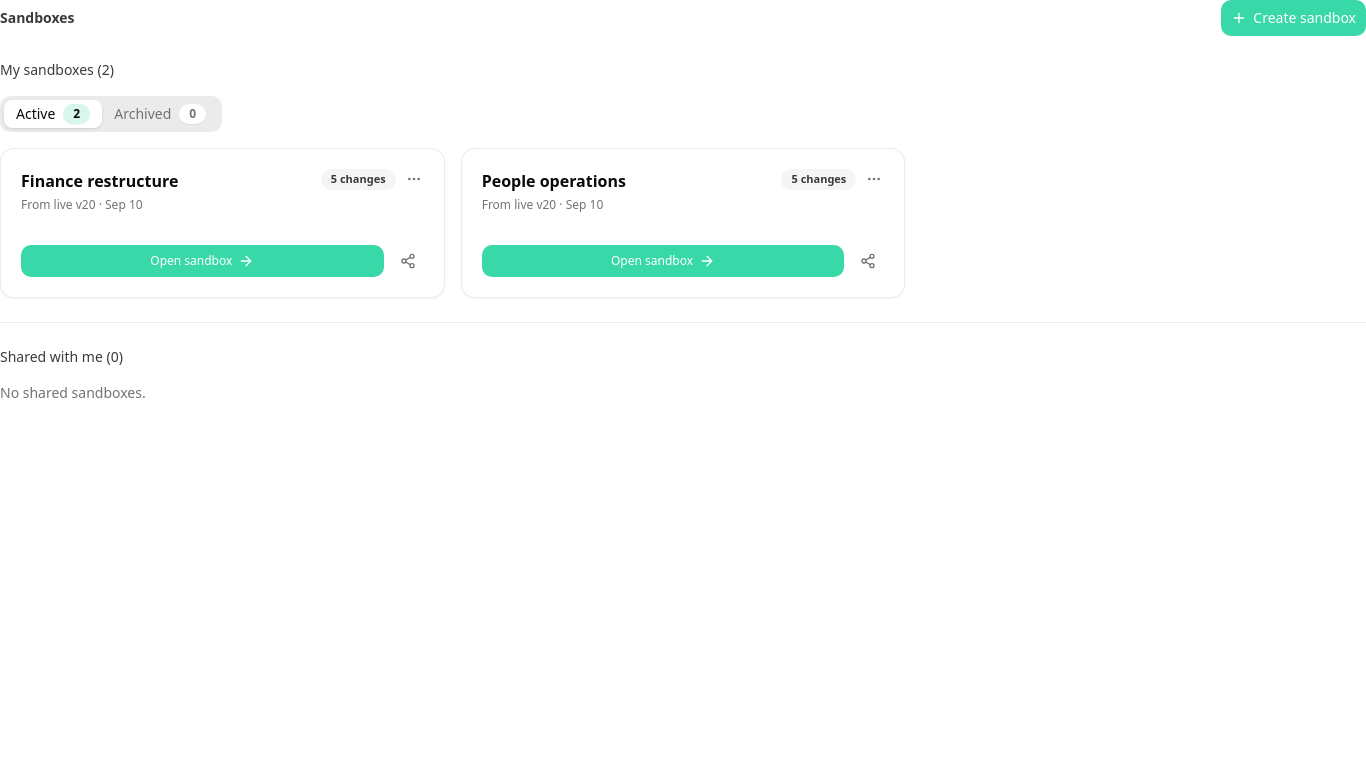
Test case: sandbox sharing › does not keep a new sandbox composer locked by an older invitation
Click the button named "Share Finance restructure" at (408, 261), box [392,245,424,277]
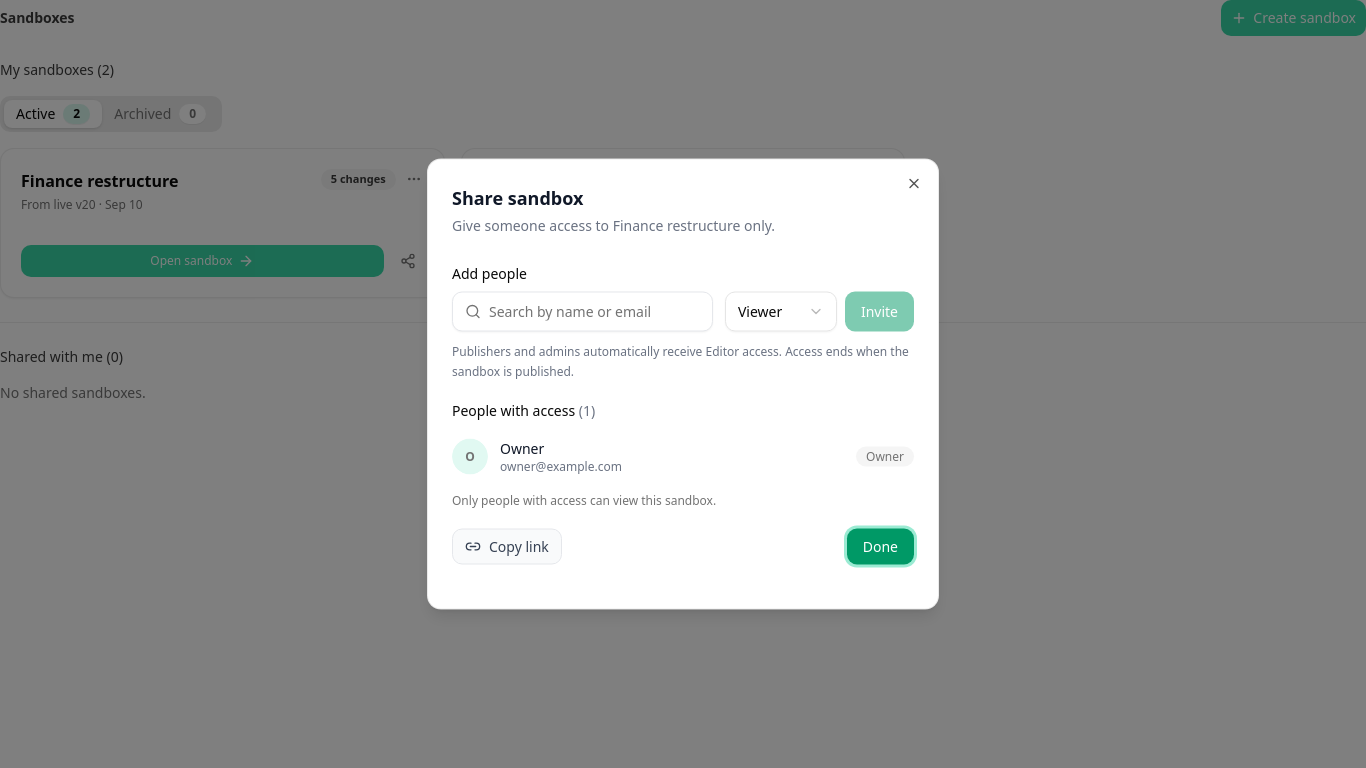
Type "morgan" into the dropdown labelled "Add people" at (592, 312), box [481,302,704,322]
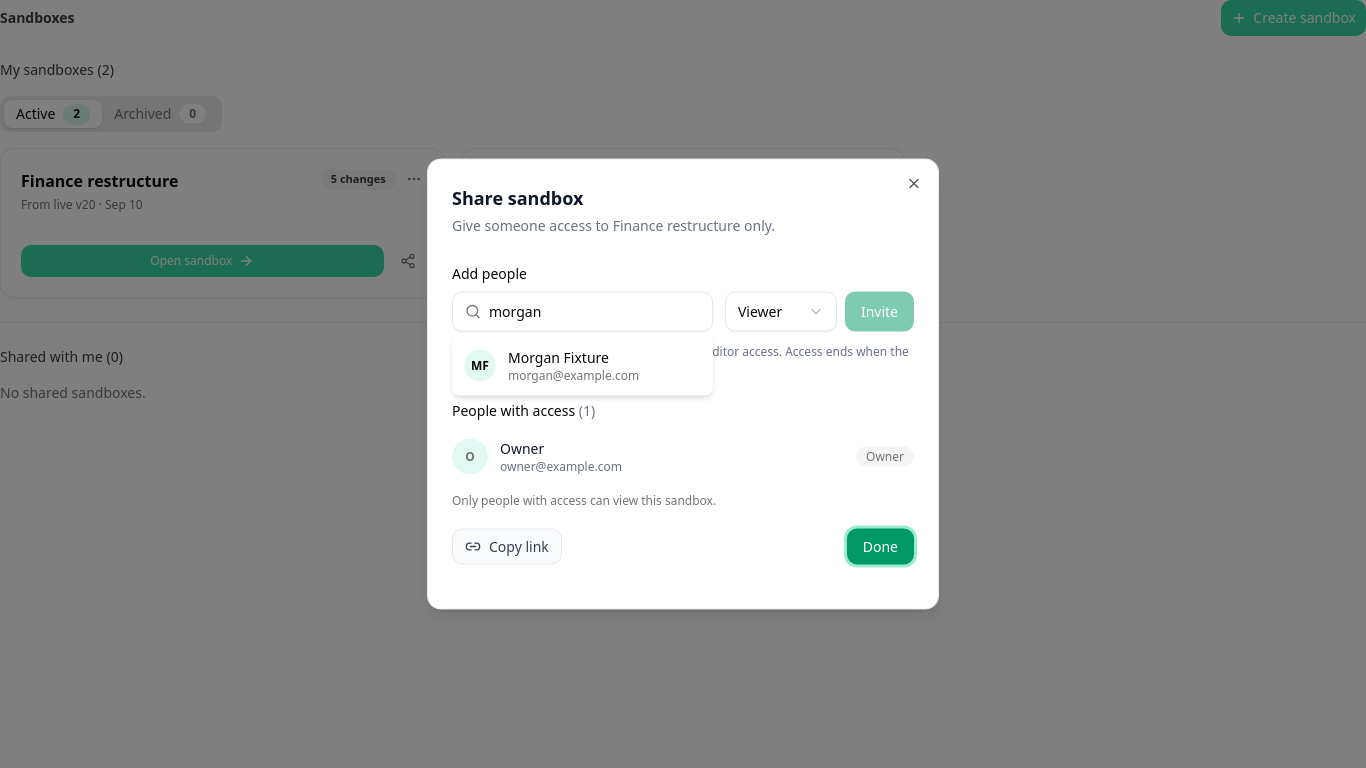
Click the button "Morgan Fixture" at (582, 366), box [456,340,709,392]
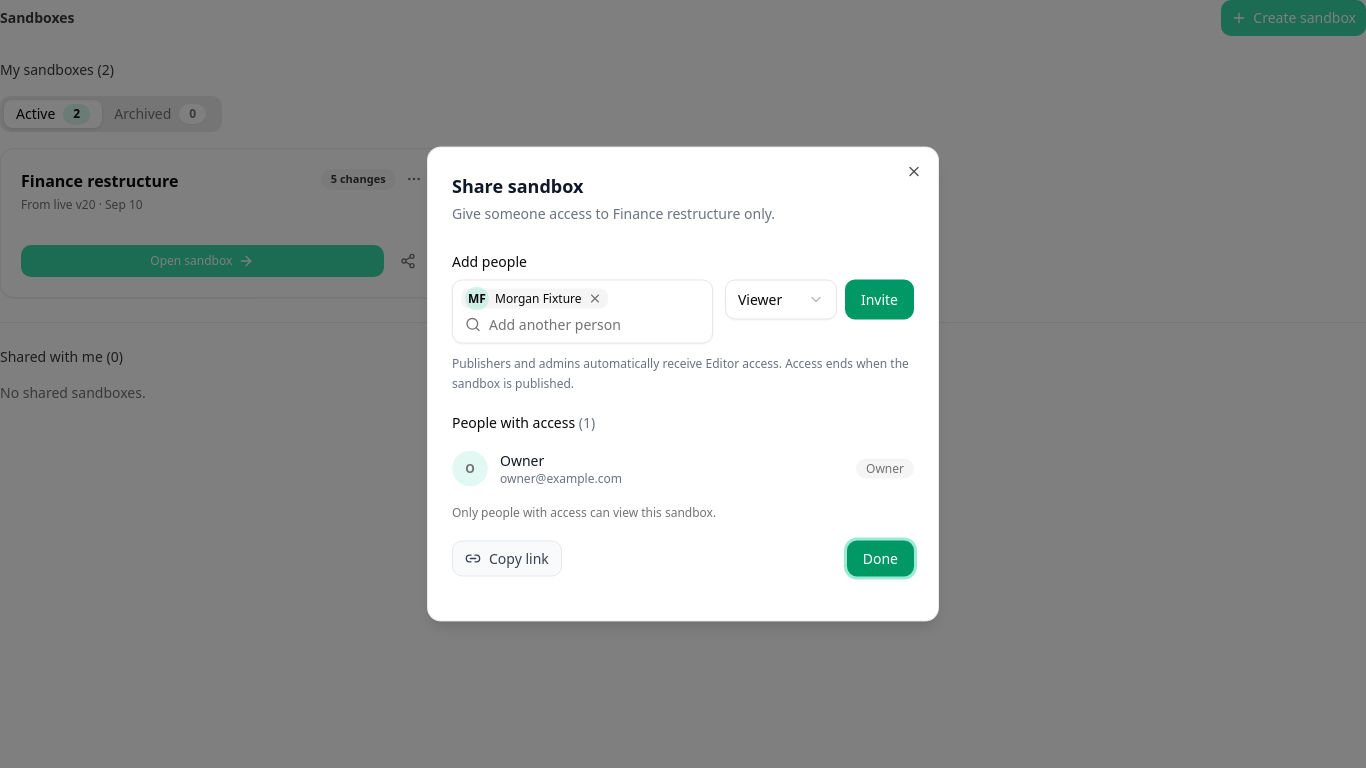
Click the button "Invite" at (879, 300), box [845,280,914,320]
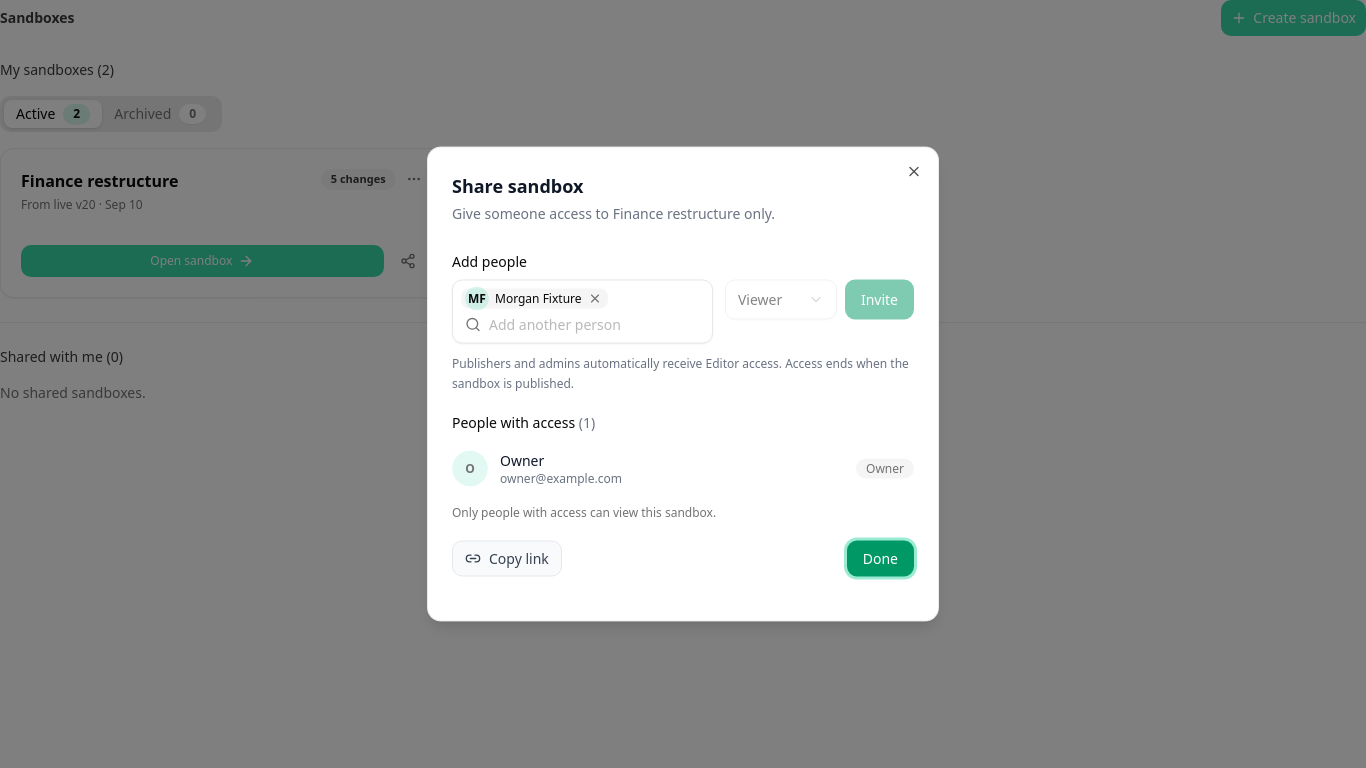
expect the dropdown labelled "Add people" is disabled: met, box [481,314,704,334]
Click the button "Done" at (880, 558), box [847,540,914,576]
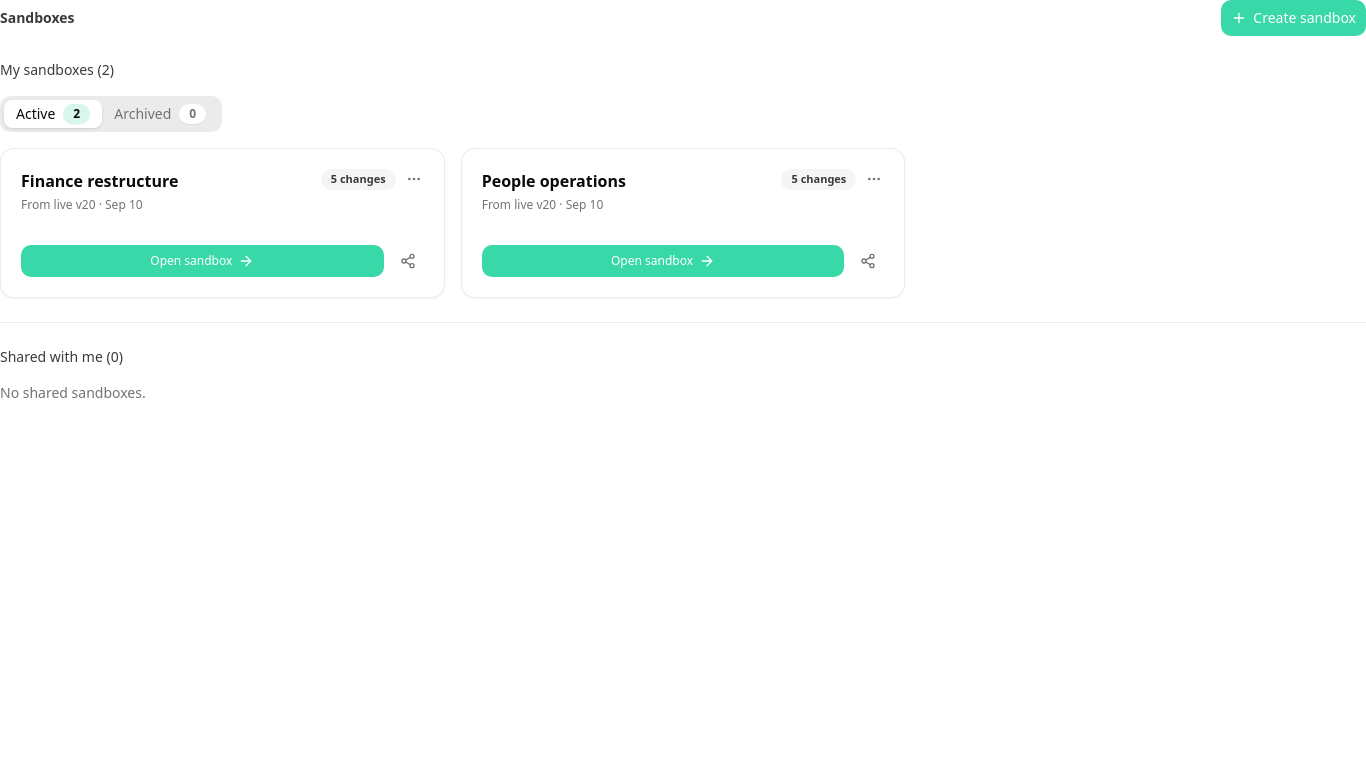
Click the button named "Share People operations" at (868, 261), box [852,245,884,277]
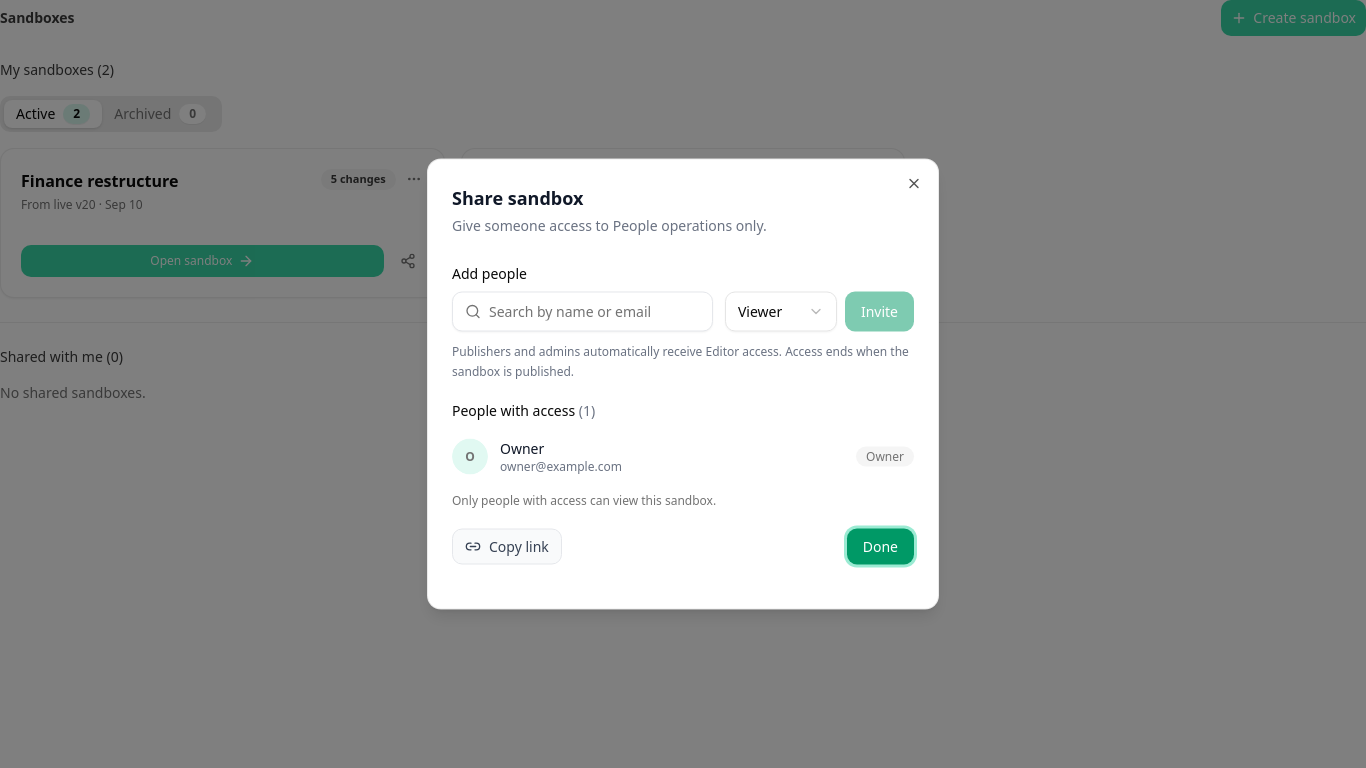
expect the dropdown labelled "Add people" is enabled: met, box [481,302,704,322]
